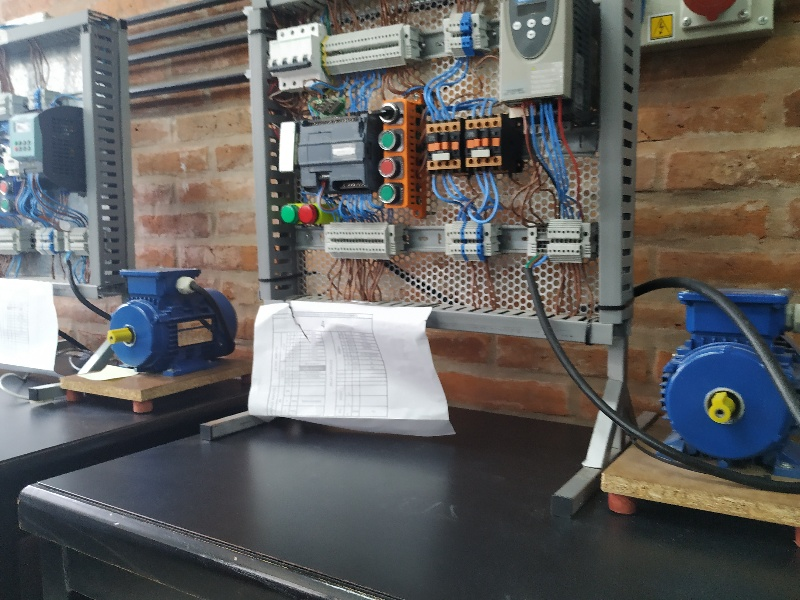Tablero 4: (268, 1, 608, 302)
